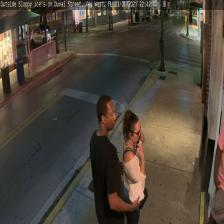person: (89, 94, 139, 224), (120, 110, 144, 224)
